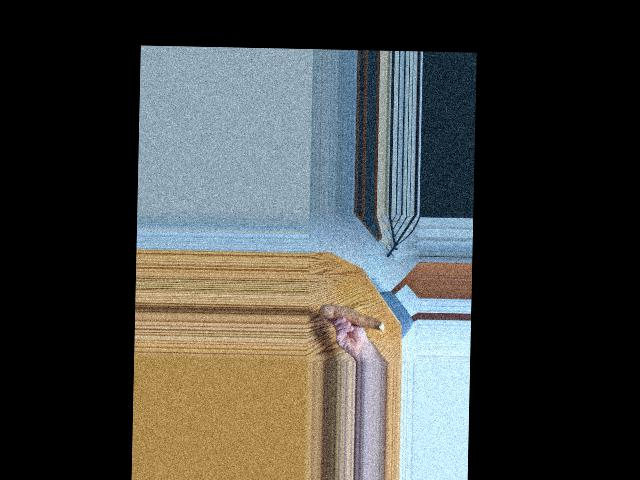sweet_potato: (322, 300, 386, 332)
